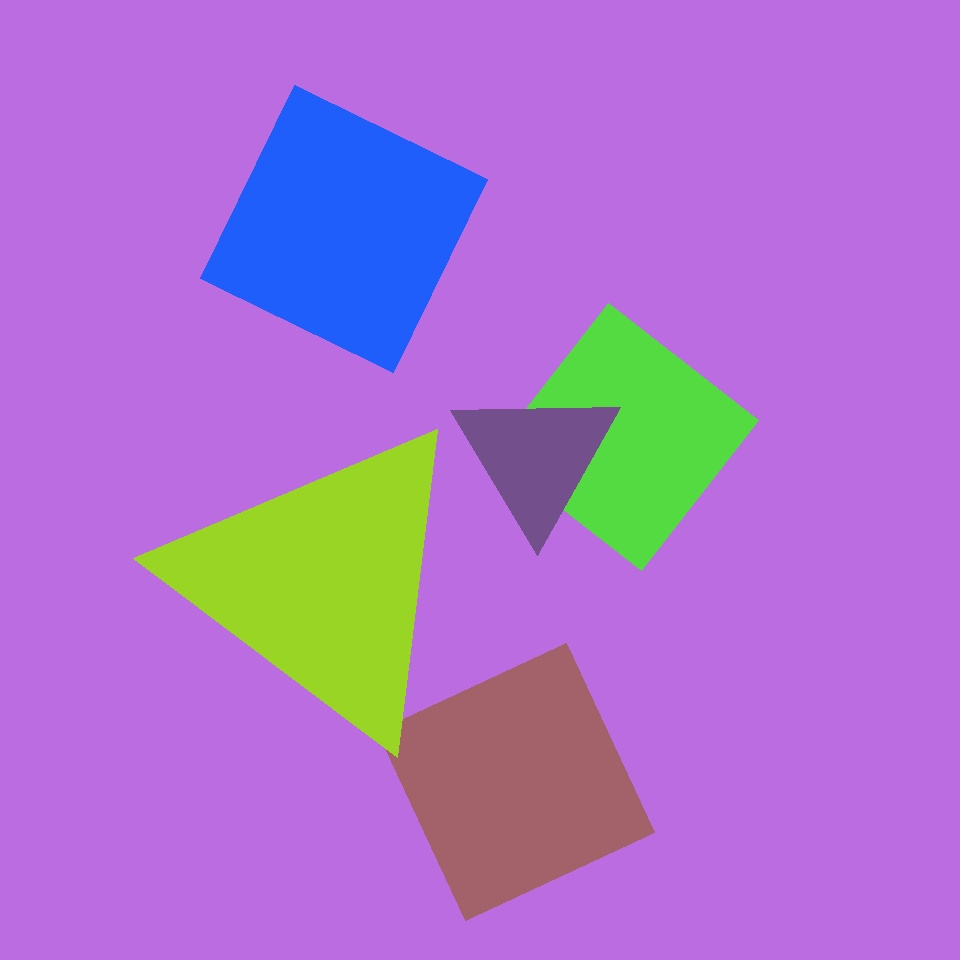circle: (171, 418, 475, 746), (451, 384, 621, 532), (539, 233, 671, 370)
square: (200, 86, 488, 373), (377, 644, 654, 920), (492, 304, 758, 570), (97, 727, 210, 840), (558, 508, 660, 610)
triangle: (268, 373, 519, 625)
